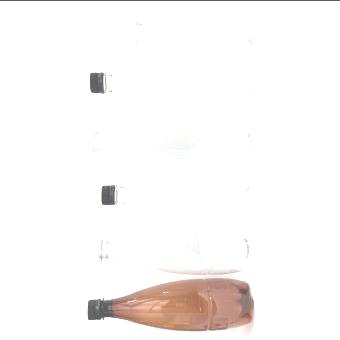bottle: (87, 278, 254, 334), (84, 226, 256, 276), (78, 122, 259, 163), (84, 66, 256, 108), (102, 175, 258, 220), (122, 14, 258, 56)
